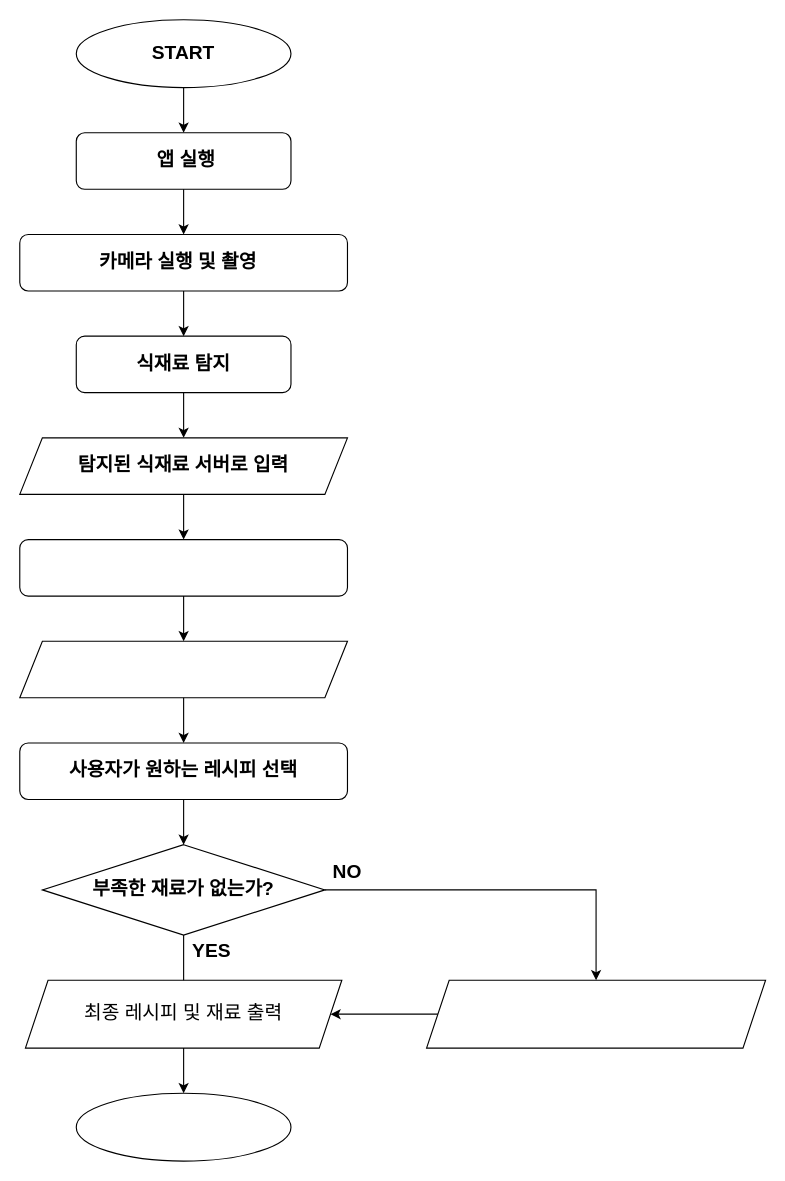
The diagram is 785 pixels wide and 1181 high, and some of its shapes have lost their labels. Here are the shapes that lost their labels. From the top down, the centre of each, then its label:
point 183,567: 식재료 기반 레시피 검색
point 183,669: 검색된 레시피 출력
point 595,1013: 부족한 식재료 출력
point 183,1126: END
